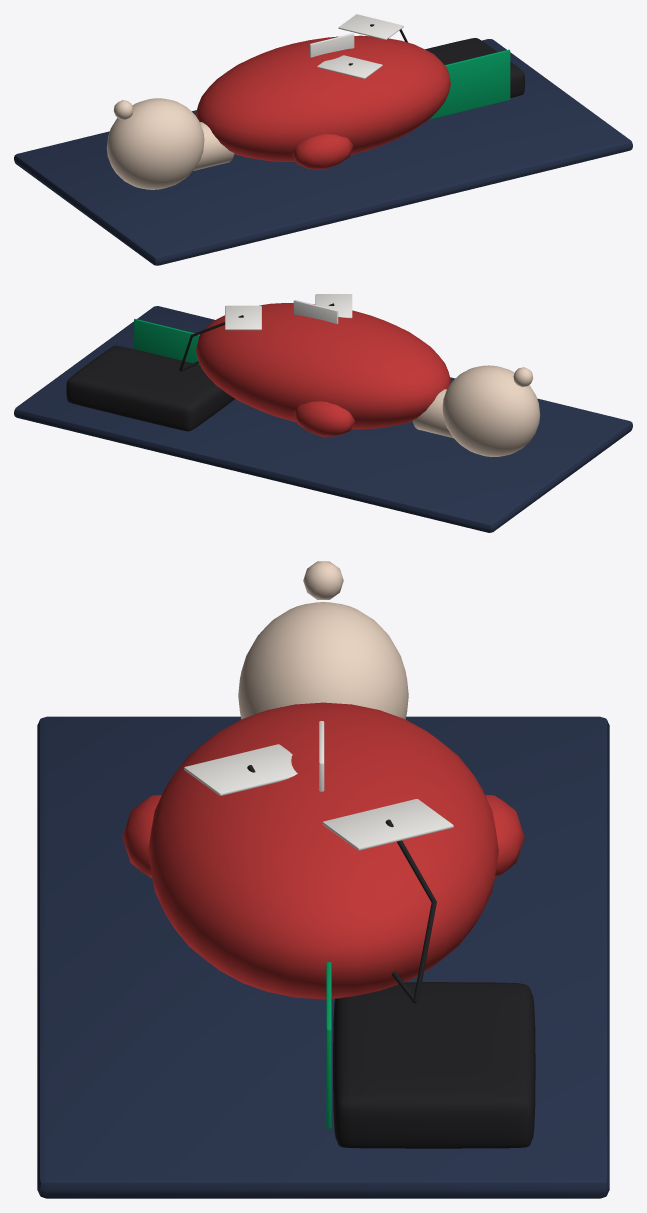
File: manichino.glb
3 renders of one model, top to bottom at view 1: azimuth 30°, elevation 25°; view 2: azimuth 150°, elevation 25°; view 3: azimuth 270°, elevation 25°, orthographic. The views are drawn at different scales.
Visible parts, largest first — view 1: manichino; view 2: manichino; view 3: manichino.
Part boxes in pixels (bbox=[...]): manichino: bbox=[14, 14, 632, 265]; manichino: bbox=[14, 294, 632, 532]; manichino: bbox=[37, 561, 609, 1198].
Bounding box in the file's own units: 1.2 × 0.28 × 0.62.
